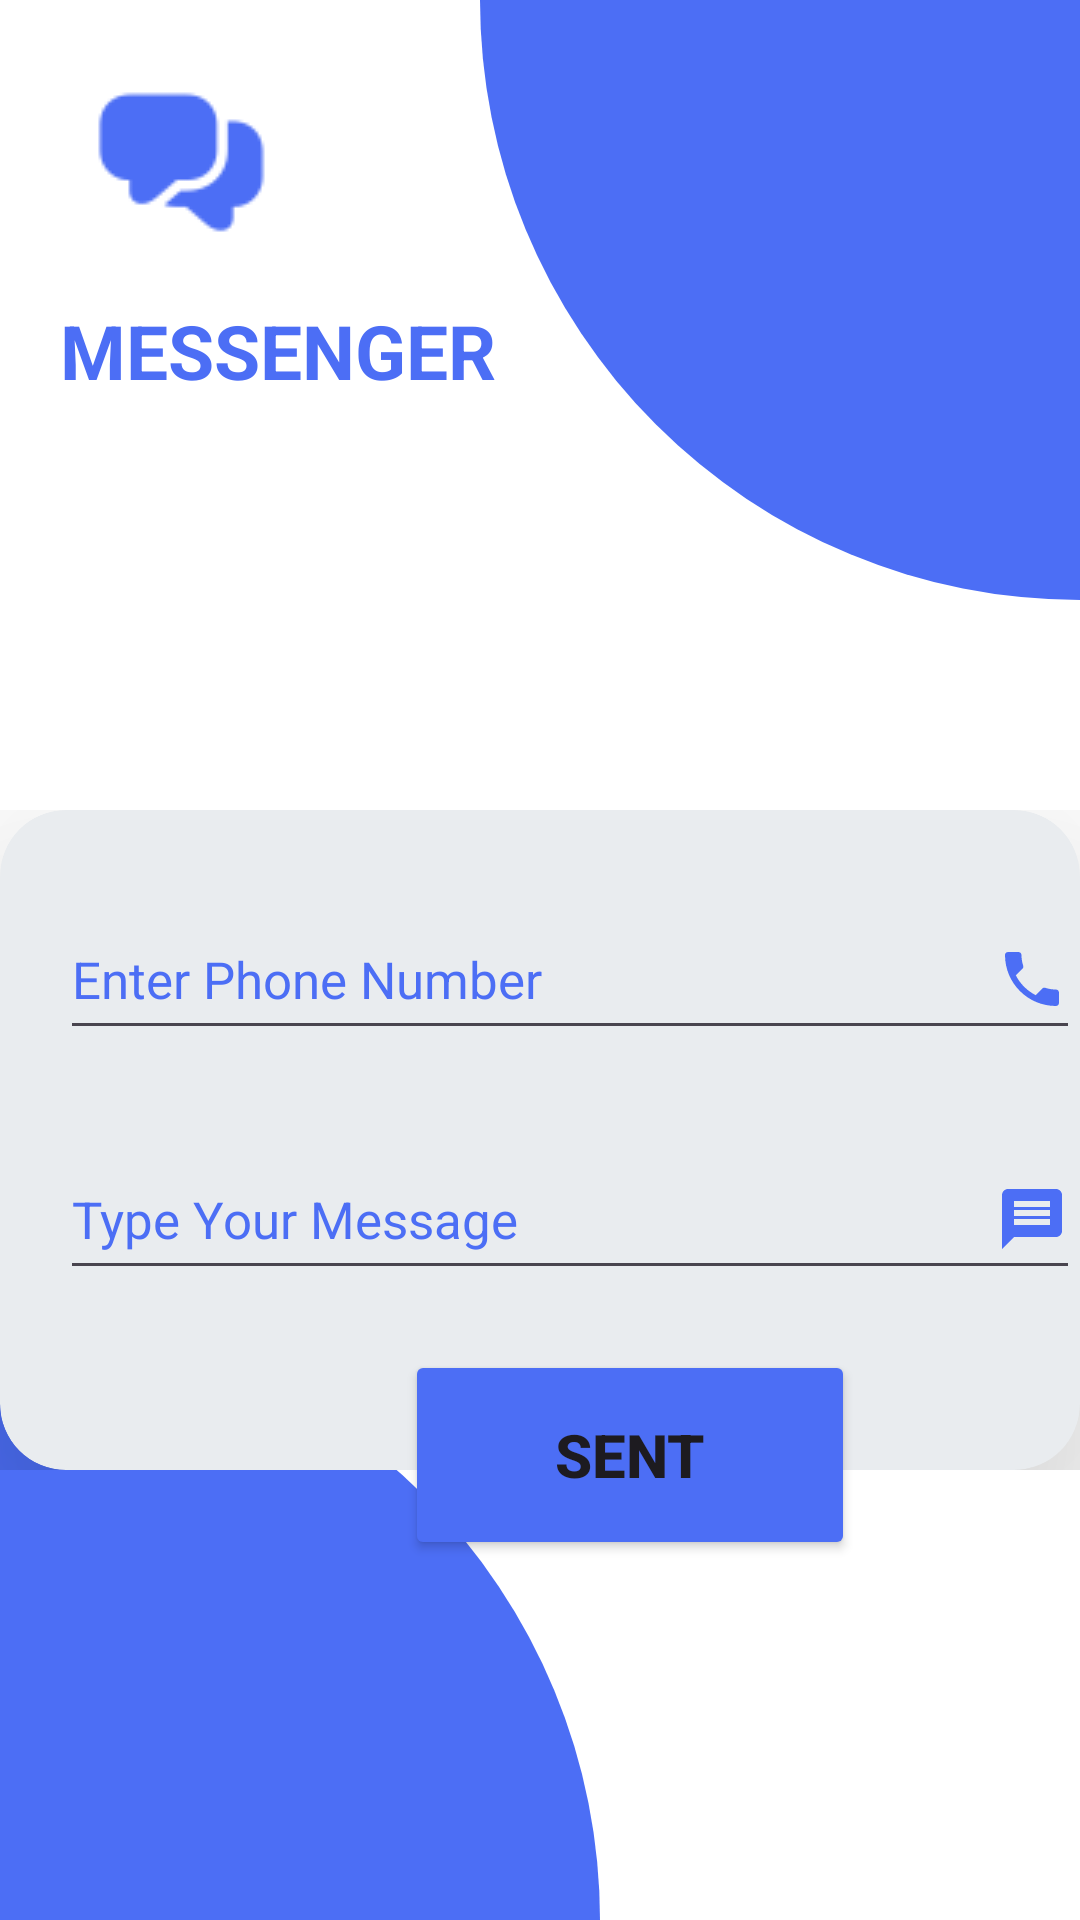

Locate icon controls on the screen. Image size 1080*1920, boxes as (x1,y1,x2,y2).
chat: (98,92,265,232)
